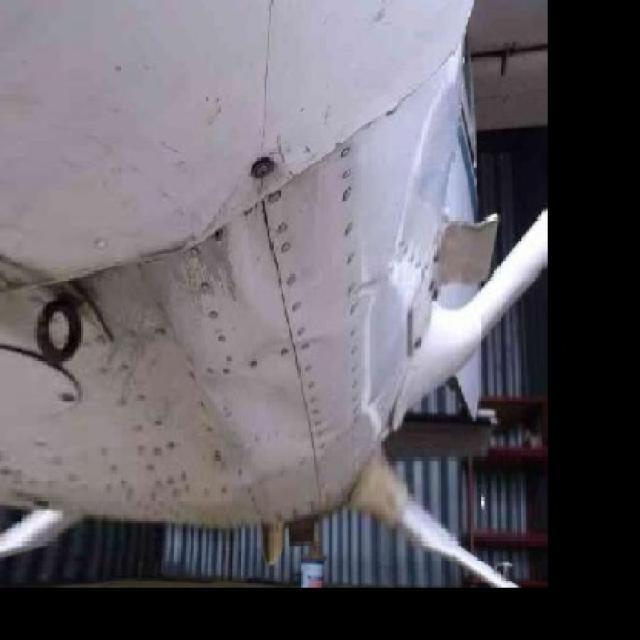dent: (220, 168, 333, 334)
